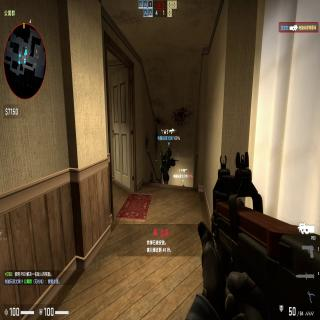CT-Head: (168, 148, 172, 157)
